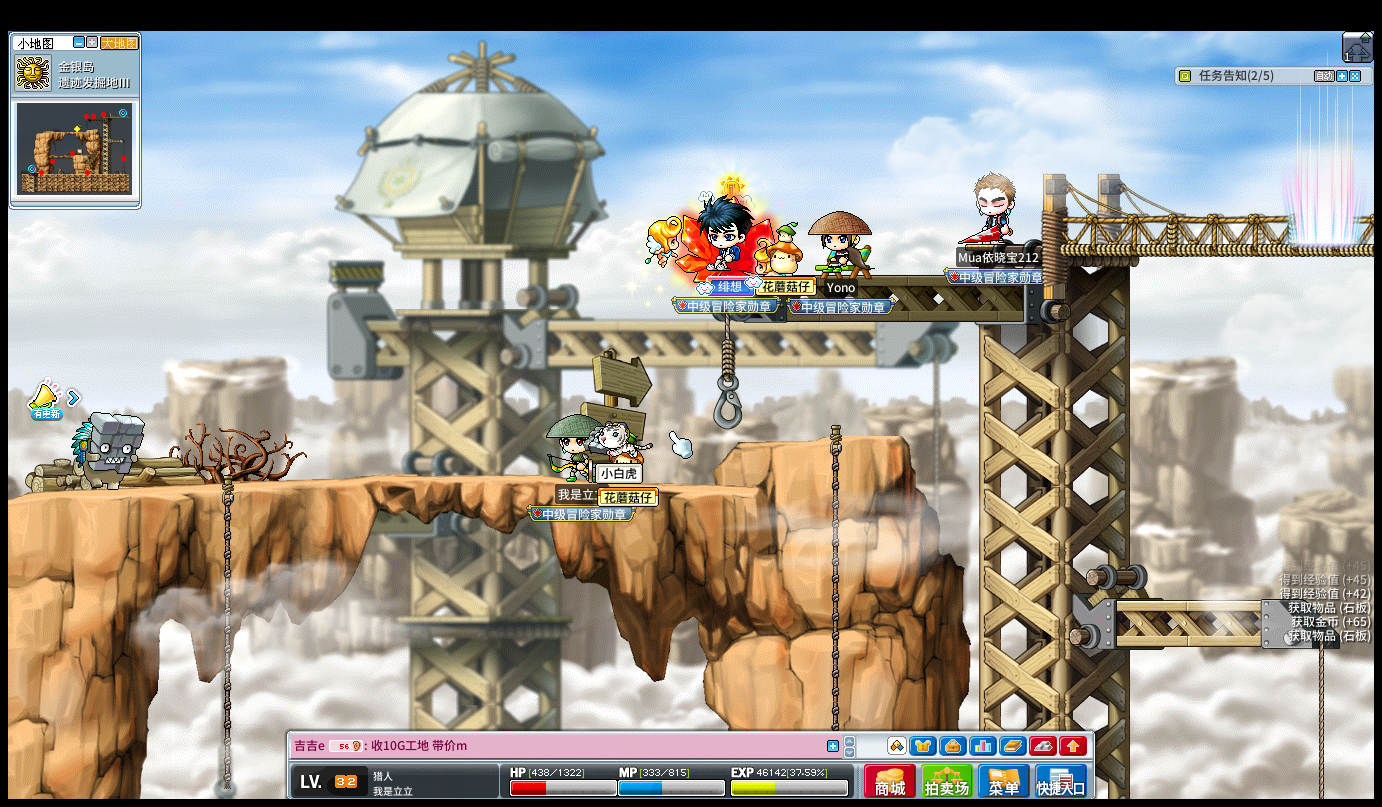floor: (17, 470, 789, 498), (22, 472, 798, 491), (731, 434, 902, 447)
monster: (71, 411, 144, 491)
rope: (218, 472, 234, 800), (827, 425, 842, 725), (1315, 646, 1328, 792)
